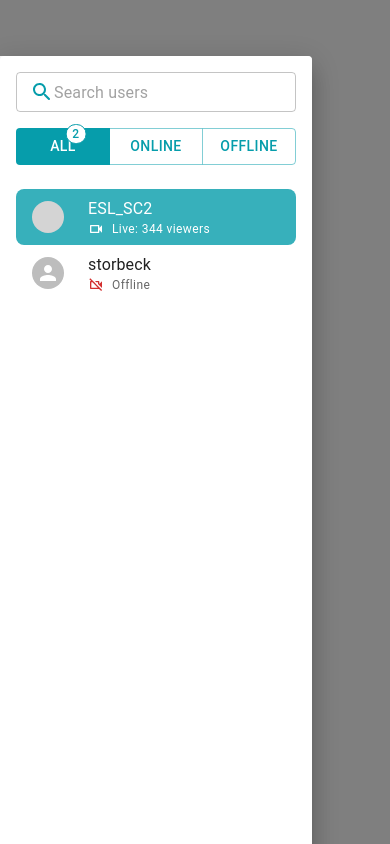
Scenario: Sidebar › should display only offline channels when filter is set to "Offline"
Expected: the button "ESL_SC2 Live: 344 viewers" is shown, [16,188,296,244]
Expected: the button "storbeck Offline" is shown, [32,254,151,292]
Click the button "Offline" at (249, 146), box [202,128,296,164]
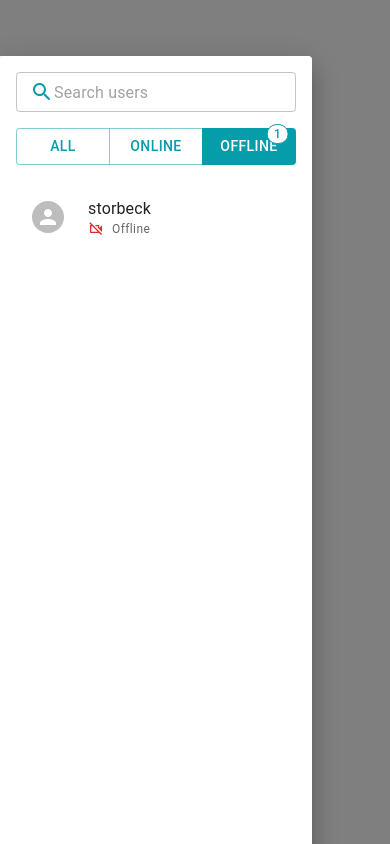
Expected: the button "storbeck Offline" is shown, [32,198,151,236]
Expected: the button "ESL_SC2 Live: 344 viewers" is gone
